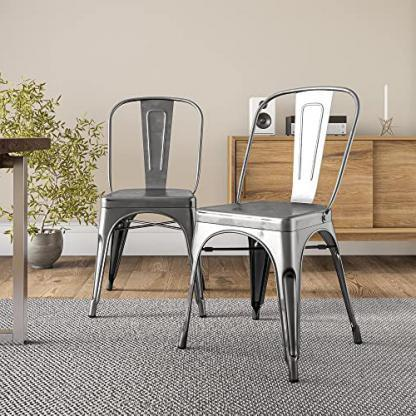chair: (185, 87, 372, 384), (85, 93, 203, 324)
table: (0, 129, 54, 339)
